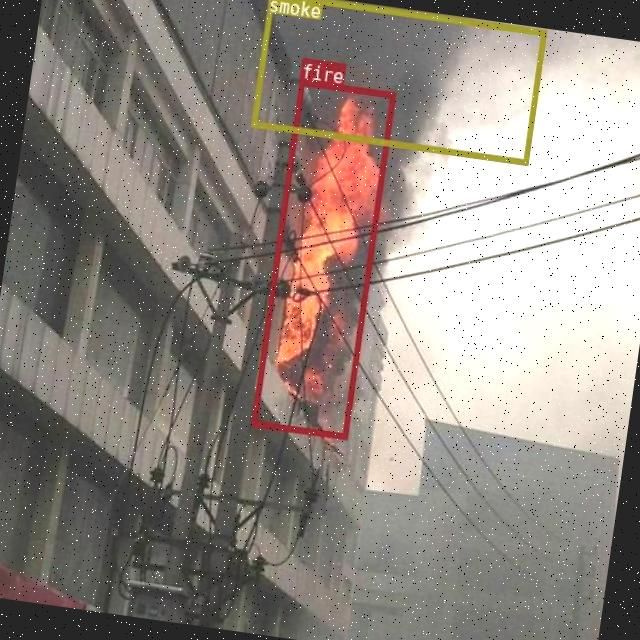fire: (250, 79, 396, 438)
smoke: (250, 0, 546, 165)
